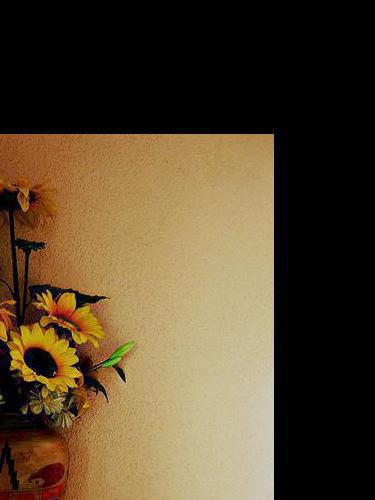Matera: (0, 166, 129, 500)
